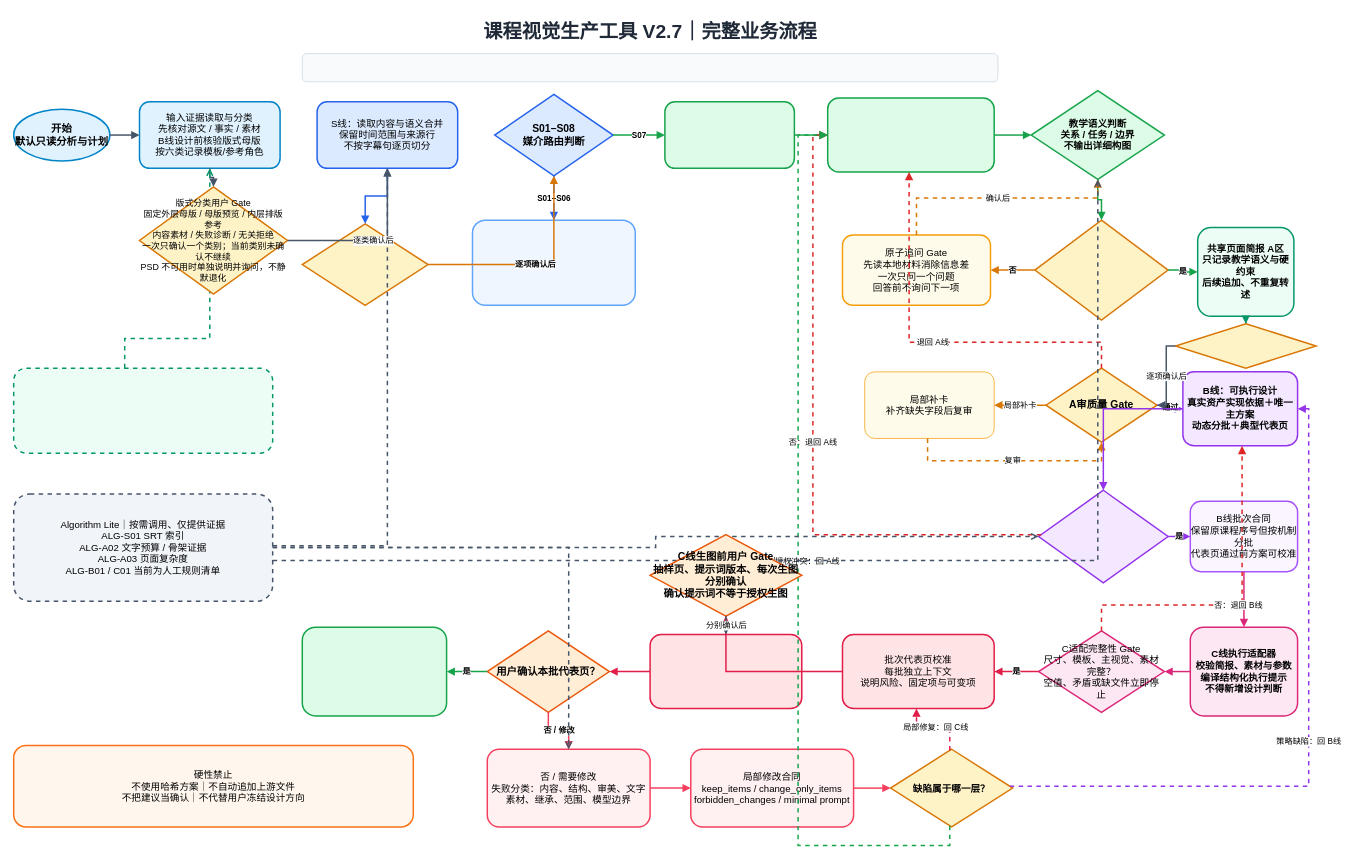
The diagram is 1353 pixels wide and 864 high, and some of its shapes have lost their labels. The shapes that lost their labels are listed below. From the top down, each one's centre as x and y in pixels, then its label:
(650,67): 实线：主生产流程 虚线：辅助证据或回退 菱形：Gate / 判断 所有用户 Gate 一次只问一个问题
(729,135): S07 AI 课程视觉页型 仅在用户确认进入A线后继续
(911,134): A线：教学语义与硬约束 教学目标、内容关系、必须呈现项 图像任务与禁止偏移项
(364,264): S线用户 Gate 依次检查：音频→时长→时间码→处理片段 →Non-A→进入A线清单→分页 缺一项只问一个问题，确认前停止
(553,262): S01–S06 有效的非 A线生产路线 教师出镜 / 现成素材 / 录屏 字幕标注与后期包装
(1101,269): A线语义完整？ 目标 / 教学关系 / 必须呈现项 图像任务 / 禁止偏移 只审教学与事实
(1245,346): A线语义用户 Gate 逐项确认；一次一个问题 全部确认后才冻结
(143,410): 产物与交接方案用户 Gate（无 Manifest） 写入前先说明：产物、路径、是否修改旧文件、下游所需、非交付记录 用户确认后才写；不自动追加上游文件
(1102,536): 实现证据充分？ 模板 / 教学关系 / 语义载体 参考依赖 / 生成方式可执行？
(374,671): 是 冻结本批执行合同 扩展其余页面 最后按课程序号组装
(725,671): 生图执行 先生成代表页；确认后扩展本批 批内只携带必要上下文
